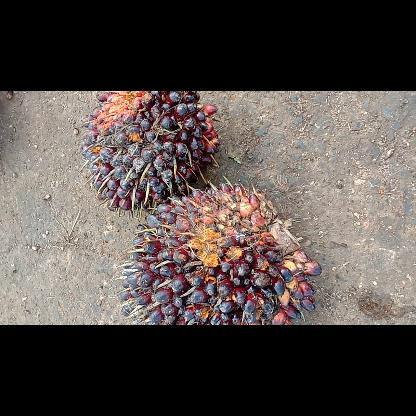Kurang masak: (113, 180, 325, 324), (76, 91, 220, 219)
